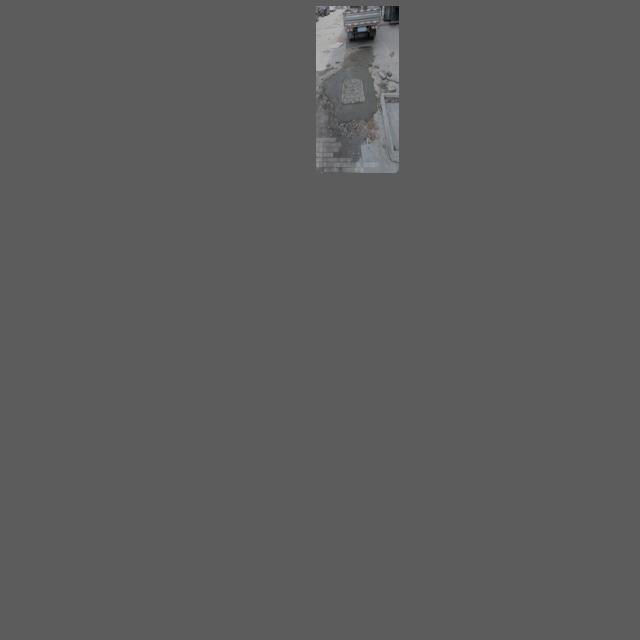good: (341, 78, 365, 105)
